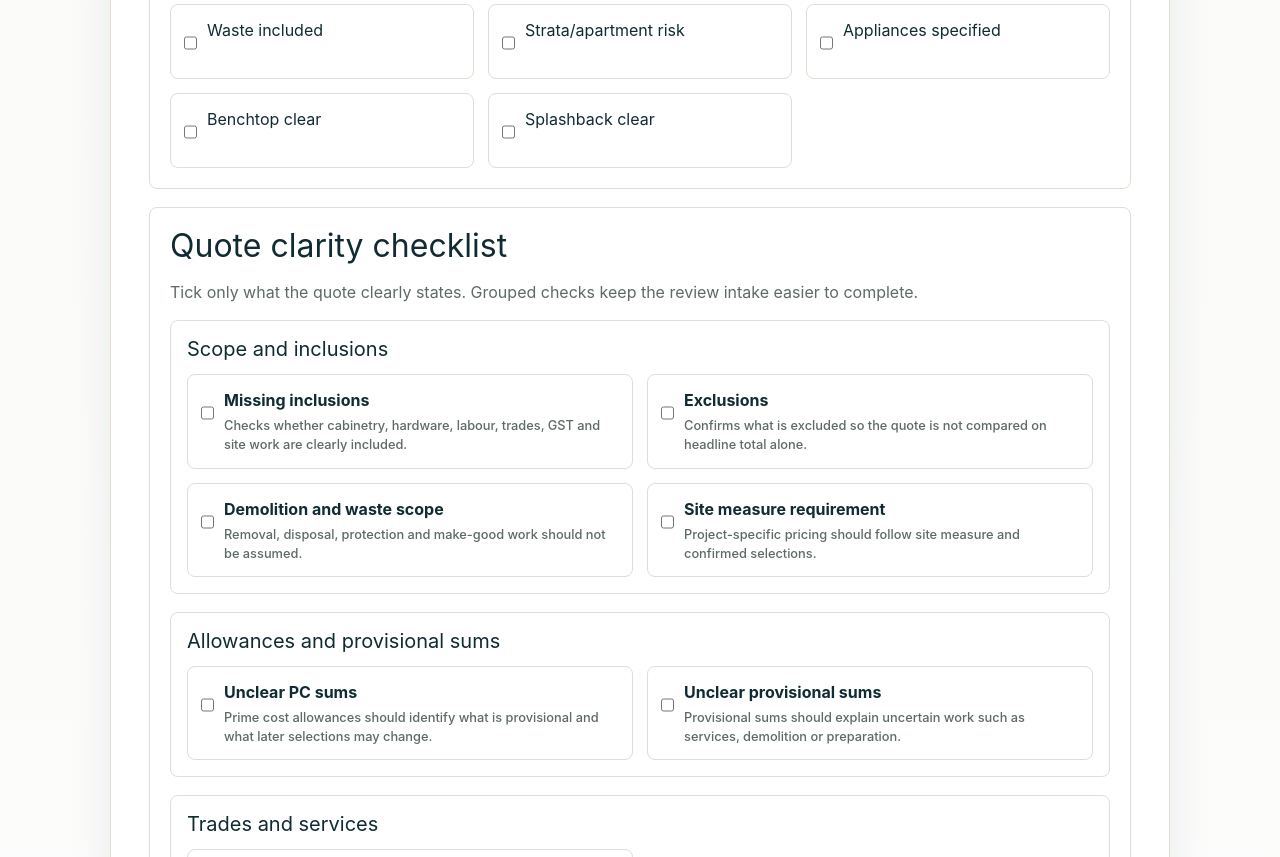
Test: quote review page submission › shows grouped checklist sections and avoids a discouraging default score before input
(page scrolled)
Check: the heading "Scope and inclusions" is shown, box [187,337,388,361]
Check: the heading "Allowances and provisional sums" is shown, box [187,629,500,653]
What coordinates should you click on to do the following:
click the checkbox labelled "Missing inclusions"
I would click on:
 (208, 413)
Its box is [201,391,214,435].
(page scrolled)
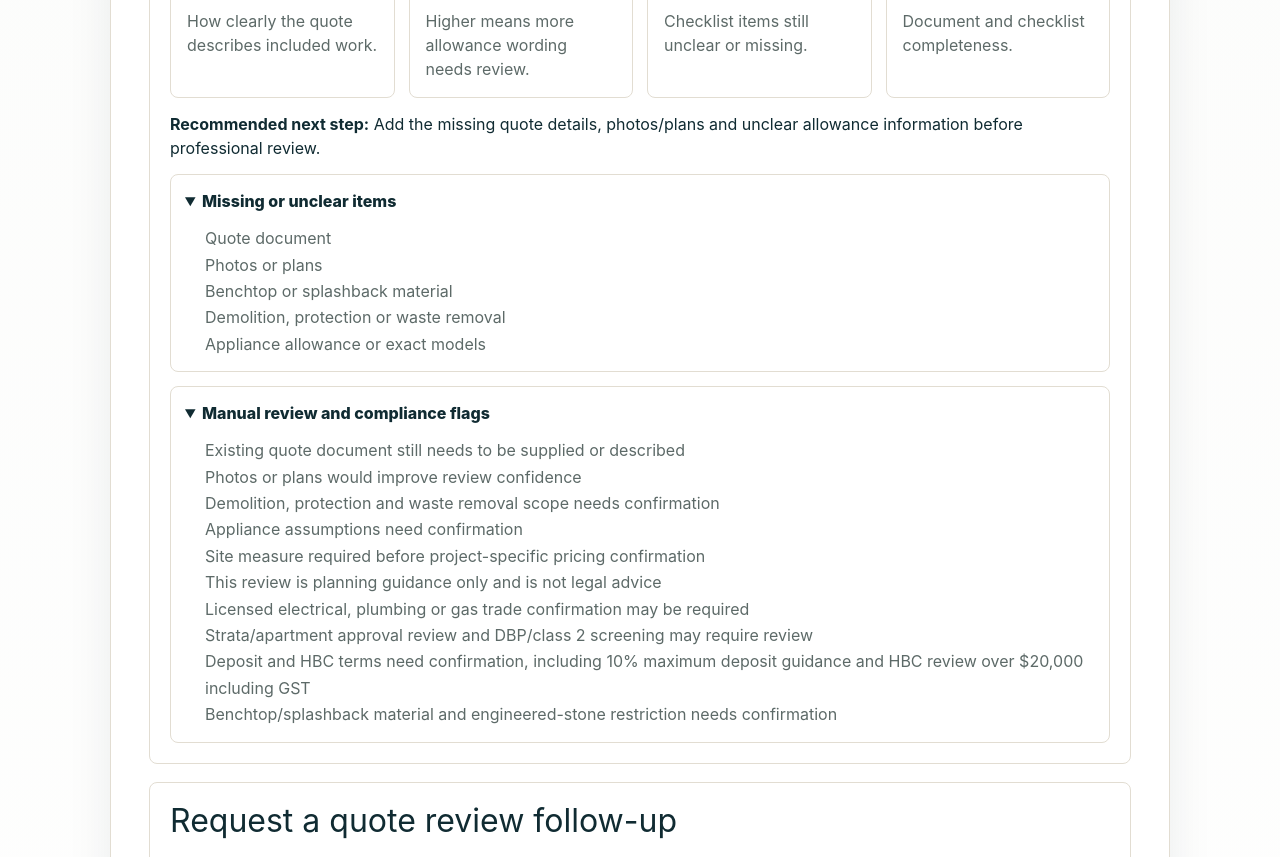
Check: the heading "Manual review and compliance flags" is shown, box [202,403,490,423]
